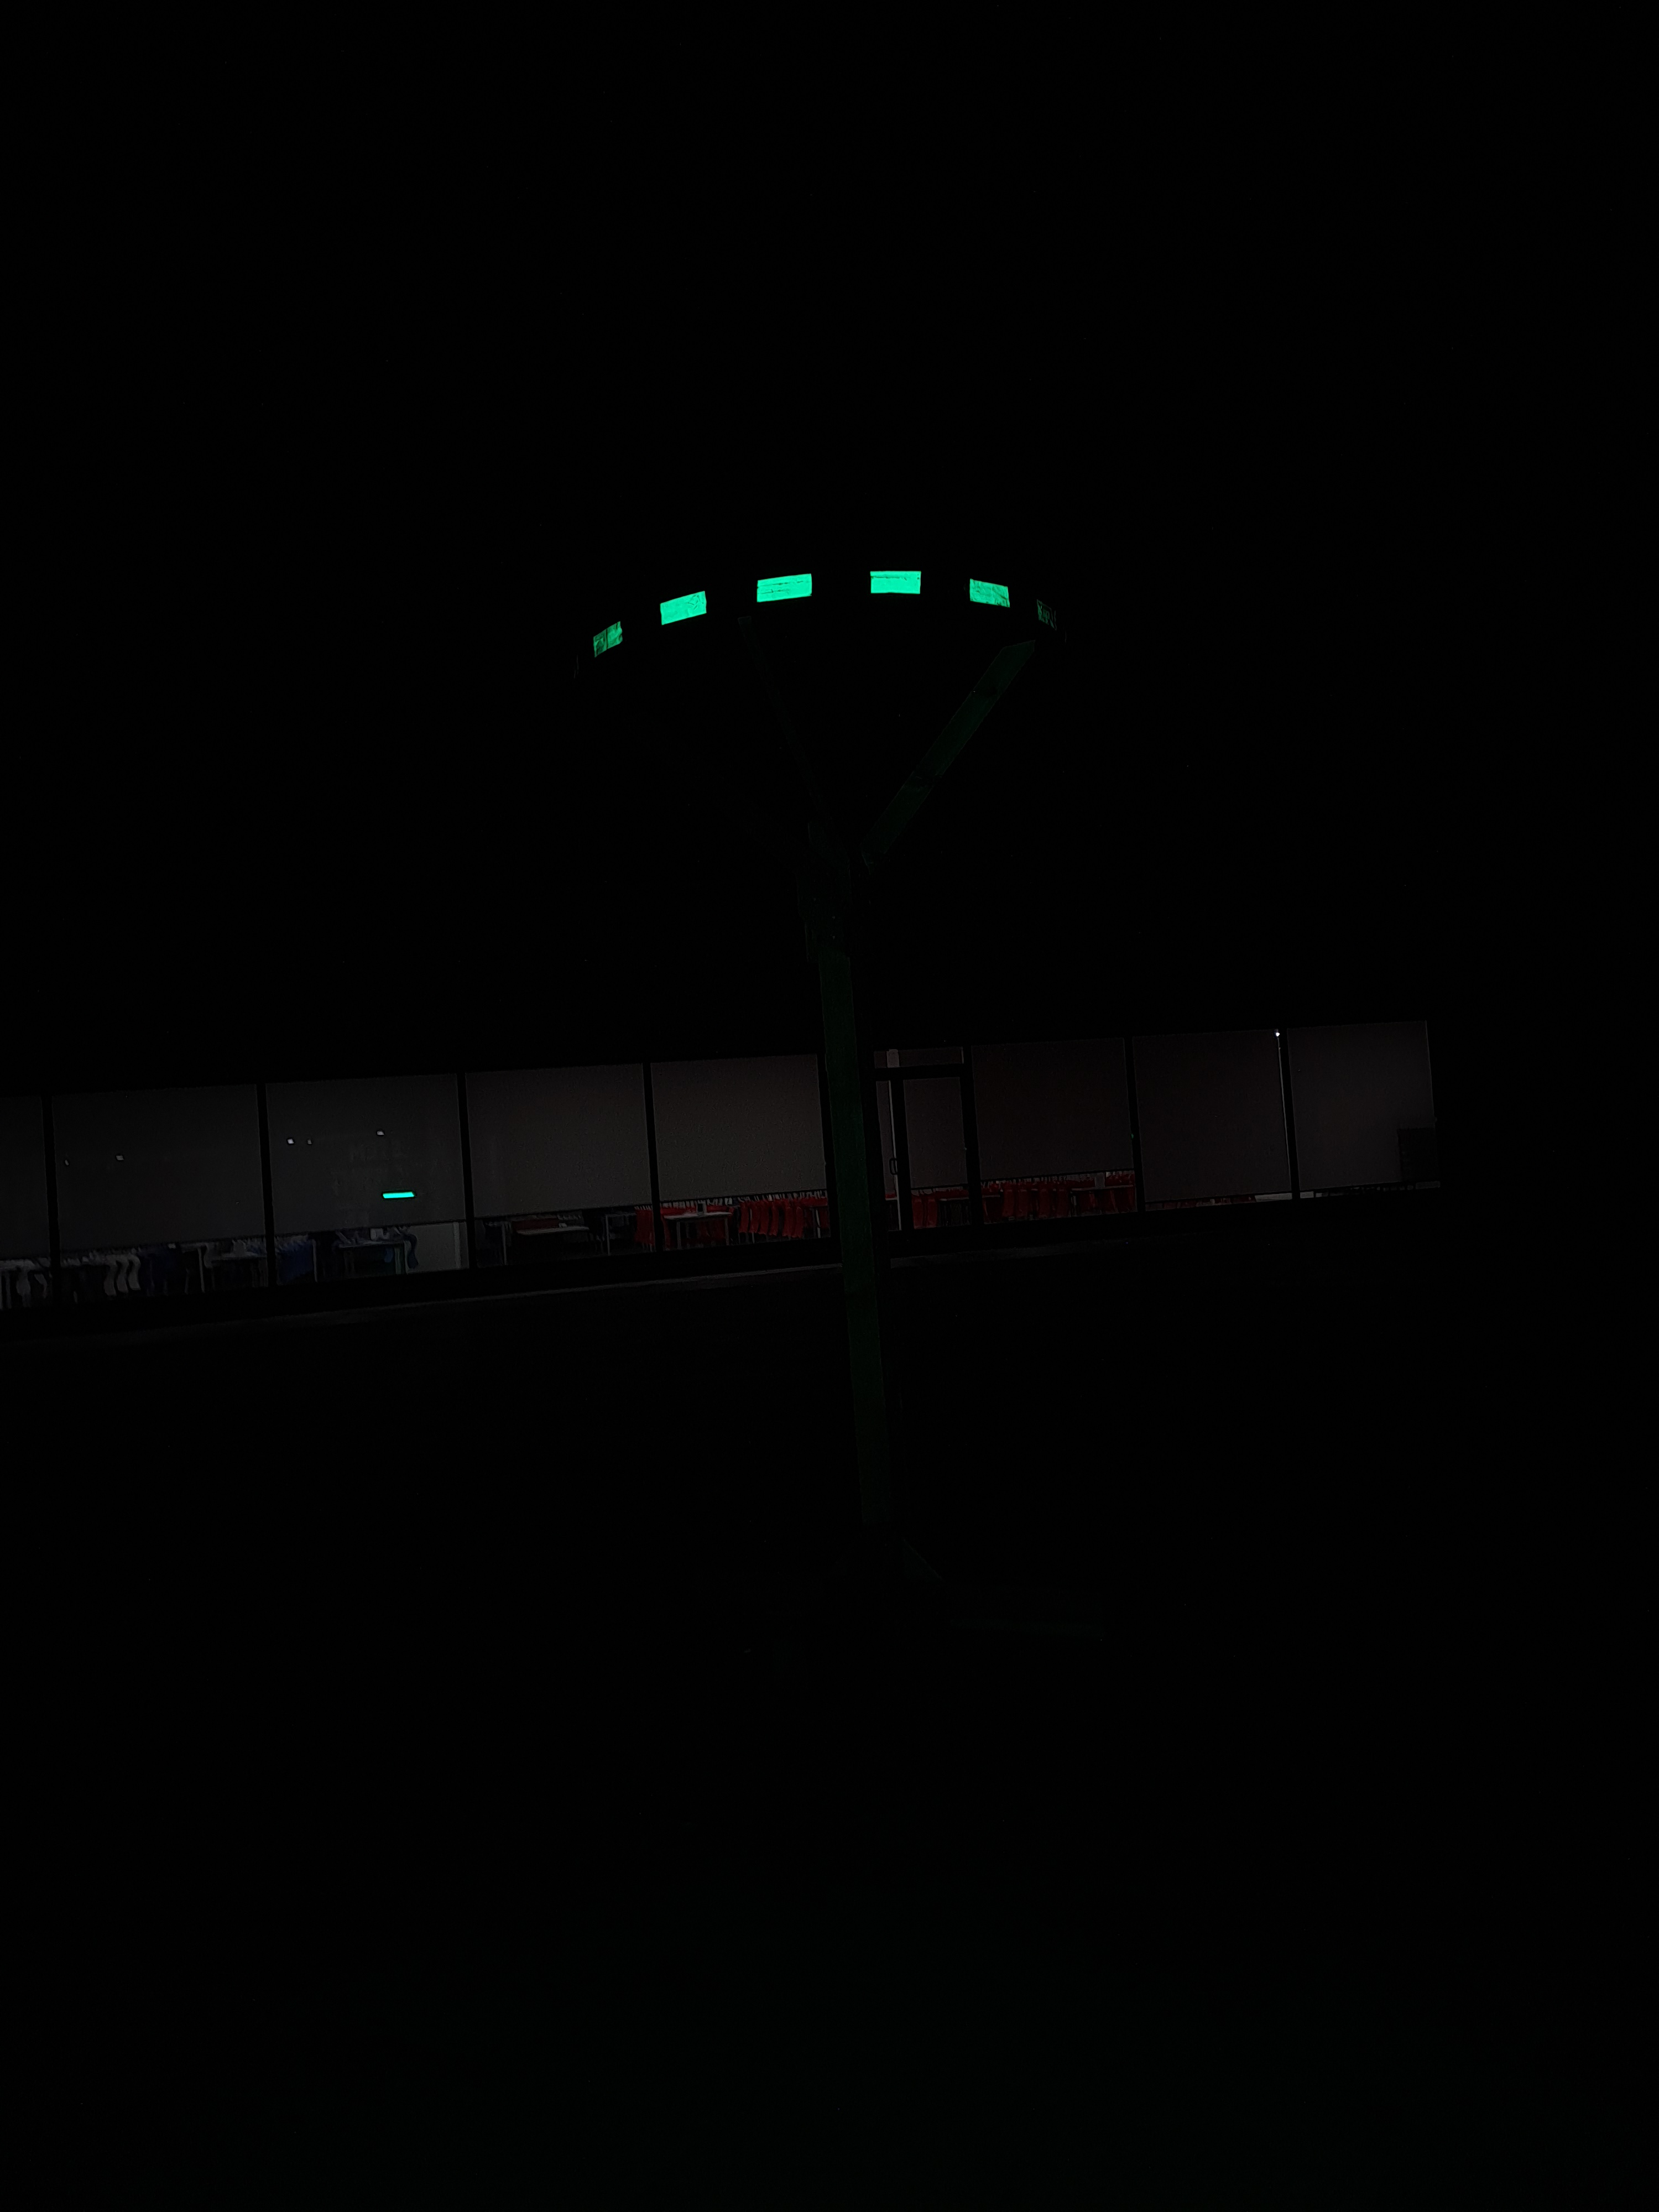hoop: (570, 571, 1066, 658)
